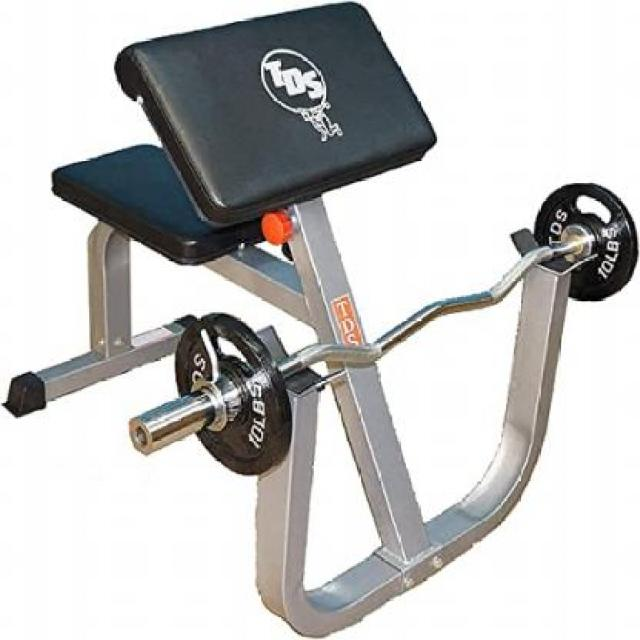arm curl machine: (4, 3, 638, 640)
